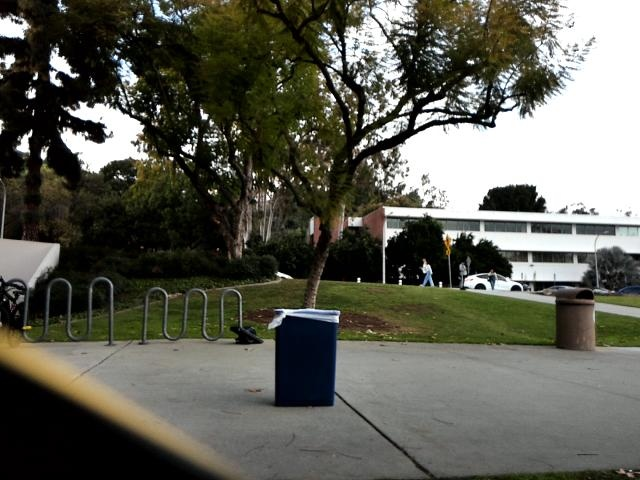trashcan_open: (265, 302, 346, 421)
